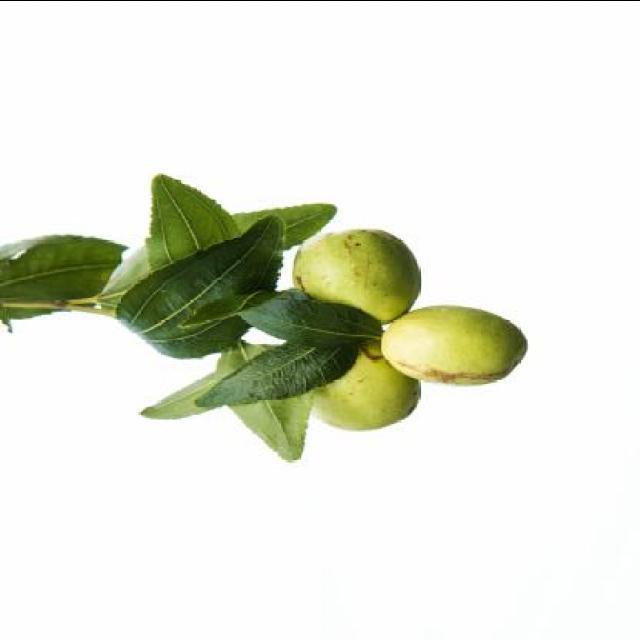Pear: (293, 225, 425, 324), (378, 304, 532, 386), (316, 334, 422, 434)
